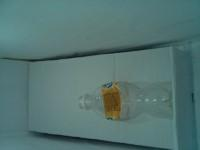bottle: (76, 85, 174, 122)
